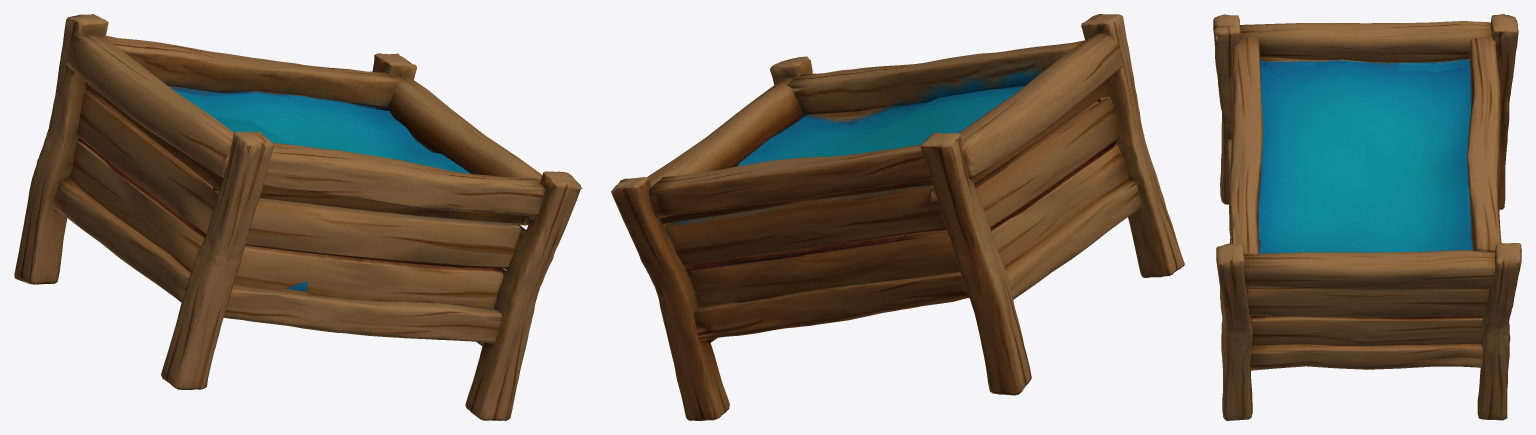
Rendered from f602d9cf-acef-4af7-984e-2bb984d9dee9_model.glb.
3 renders of one model, left to right at view 1: azimuth 30°, elevation 25°; view 2: azimuth 150°, elevation 25°; view 3: azimuth 270°, elevation 25°, orthographic. The views are drawn at different scales.
Visible parts, largest first — view 1: tripo_node_f602d9cf-acef-4af7-984e-2bb984d9dee9; view 2: tripo_node_f602d9cf-acef-4af7-984e-2bb984d9dee9; view 3: tripo_node_f602d9cf-acef-4af7-984e-2bb984d9dee9.
Part boxes in pixels (x1=…): tripo_node_f602d9cf-acef-4af7-984e-2bb984d9dee9: x1=14, y1=14, x2=582, y2=420; tripo_node_f602d9cf-acef-4af7-984e-2bb984d9dee9: x1=611, y1=14, x2=1184, y2=420; tripo_node_f602d9cf-acef-4af7-984e-2bb984d9dee9: x1=1213, y1=14, x2=1521, y2=420.
Size of the model in its own units: 0.6099 by 0.5 by 0.4734.
1 material, 1 textured.
